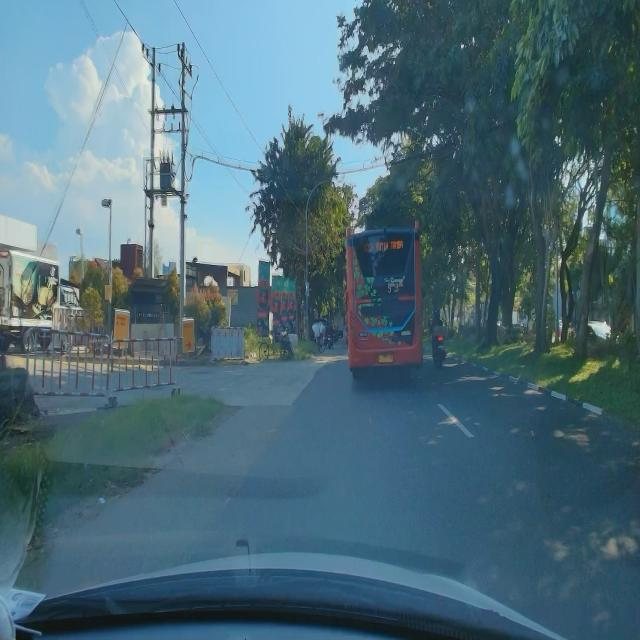bus: (345, 220, 423, 381)
license-plate: (379, 355, 393, 363)
